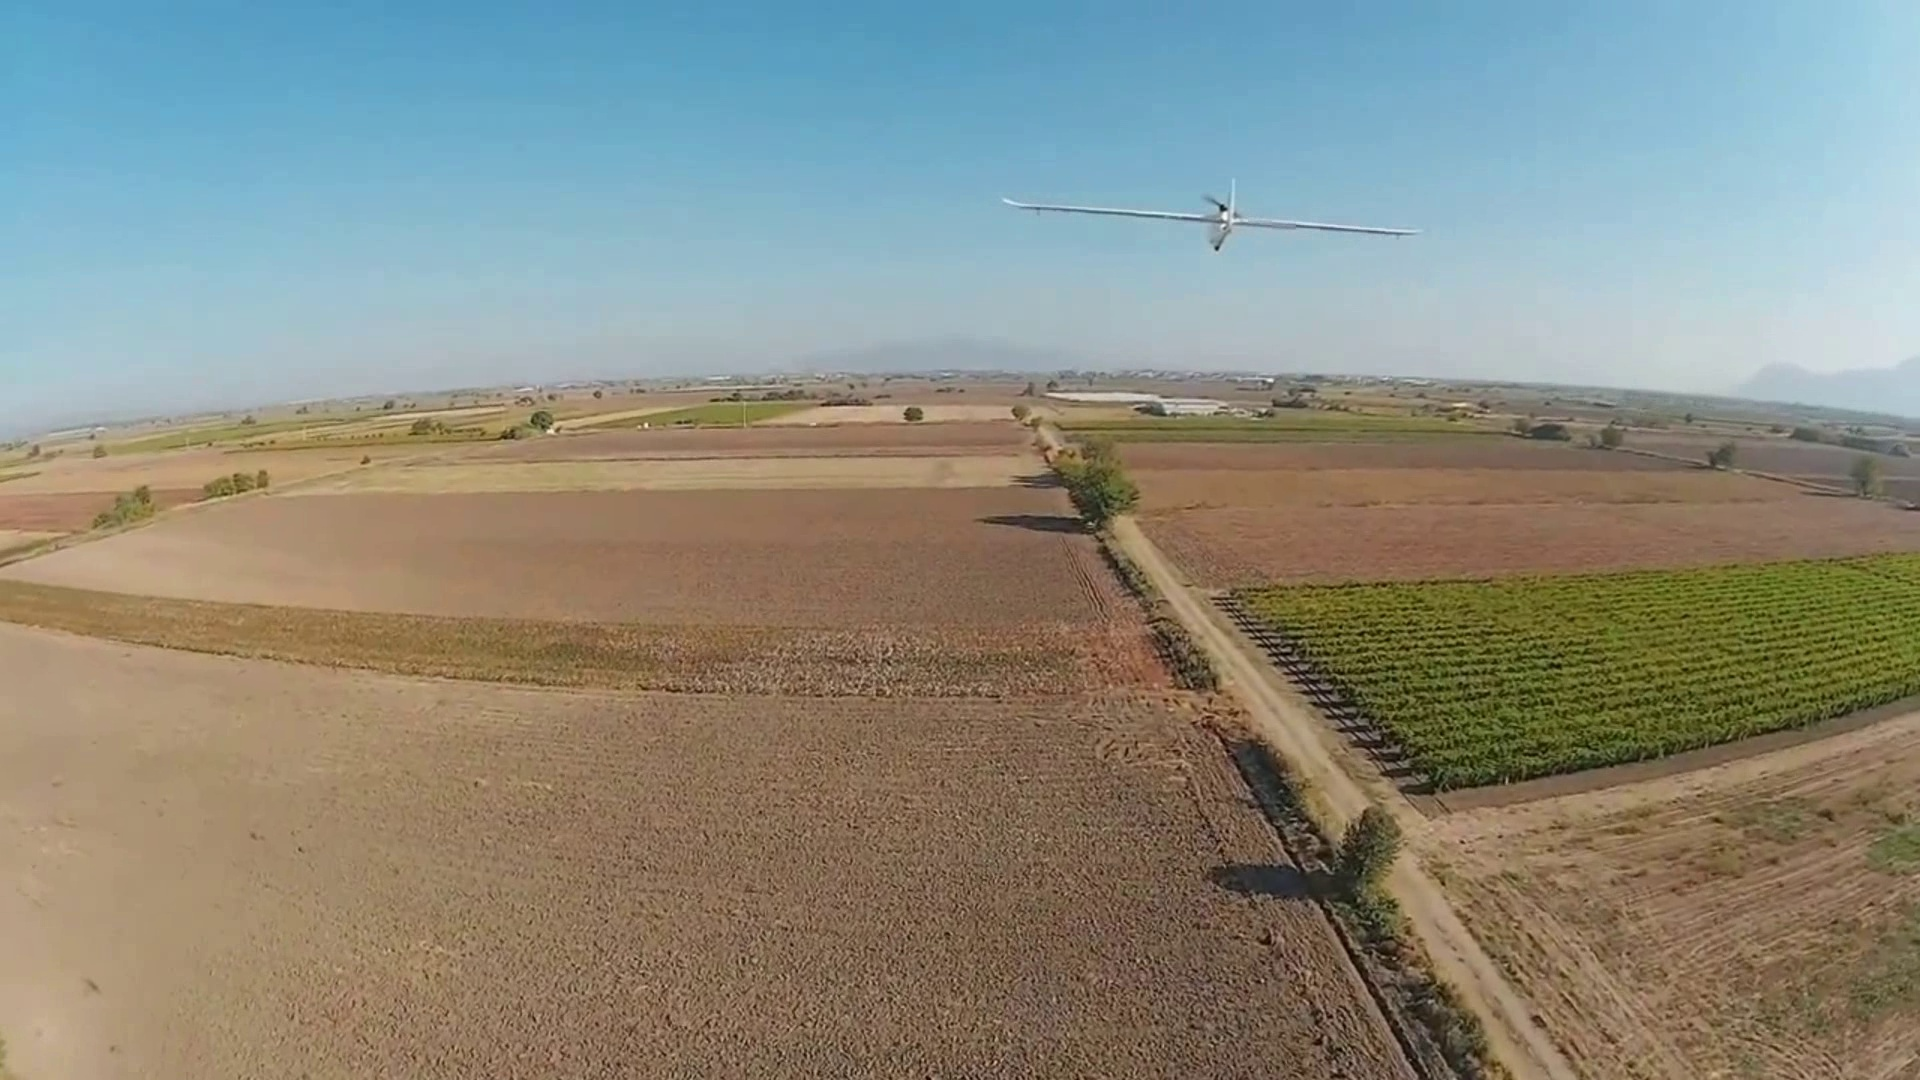airplane: (998, 187, 1414, 252)
